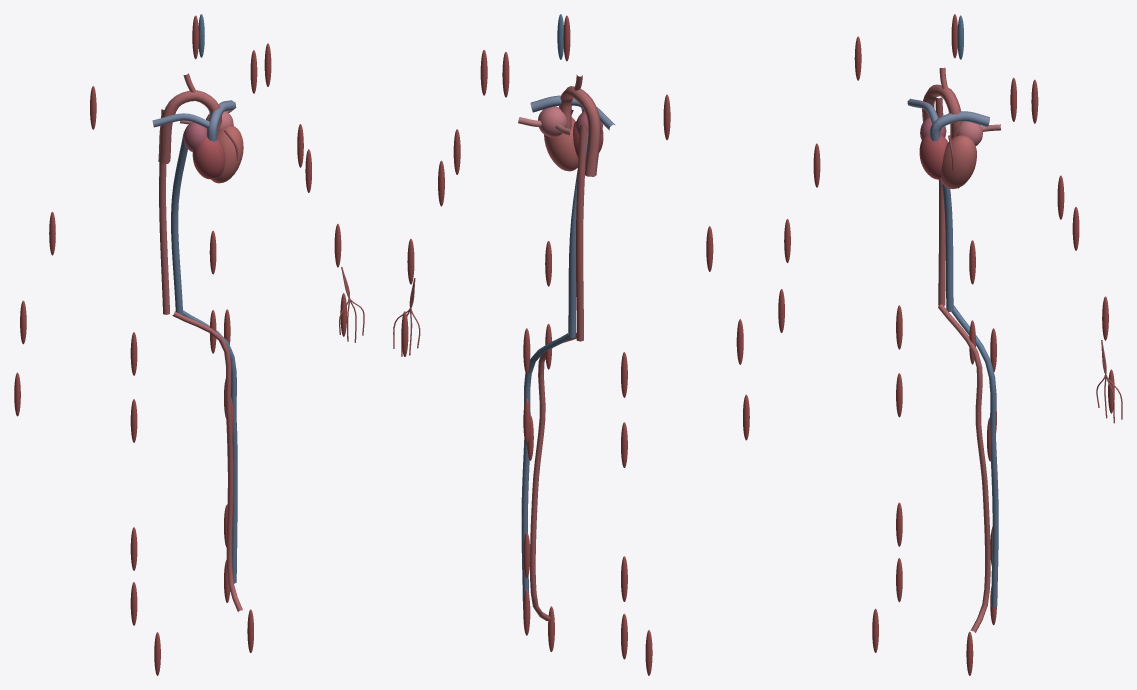
The model's file is cardiovascular-system.glb.
3 views of the same model, side by side, from view 1: azimuth 30°, elevation 25°; view 2: azimuth 150°, elevation 25°; view 3: azimuth 330°, elevation 25° (orthographic). The views are drawn at different scales.
Visible parts, largest first — view 1: leg-vessels-329, right-atrium-320, leg-vessels-330, aorta-285, aorta-319, right-ventricle-282, left-ventricle-281; view 2: leg-vessels-329, aorta-319, aorta-285, leg-vessels-330, right-atrium-320, left-ventricle-281, left-atrium-283; view 3: leg-vessels-329, leg-vessels-330, left-ventricle-281, right-atrium-320, aorta-319, right-ventricle-282, aorta-285, pulmonary-artery-287.
Boxes of the visible parts, x1=… form: leg-vessels-329: x1=172, y1=311, x2=242, y2=611; right-atrium-320: x1=171, y1=131, x2=187, y2=314; leg-vessels-330: x1=182, y1=310, x2=237, y2=583; aorta-285: x1=158, y1=90, x2=221, y2=164; aorta-319: x1=159, y1=109, x2=169, y2=314; right-ventricle-282: x1=192, y1=137, x2=225, y2=179; left-ventricle-281: x1=211, y1=125, x2=243, y2=183; leg-vessels-329: x1=530, y1=333, x2=576, y2=620; aorta-319: x1=576, y1=125, x2=587, y2=341; aorta-285: x1=559, y1=86, x2=600, y2=176; leg-vessels-330: x1=521, y1=333, x2=570, y2=609; right-atrium-320: x1=568, y1=130, x2=588, y2=338; left-ventricle-281: x1=544, y1=117, x2=578, y2=171; left-atrium-283: x1=538, y1=106, x2=567, y2=137; leg-vessels-329: x1=938, y1=304, x2=990, y2=632; leg-vessels-330: x1=951, y1=305, x2=998, y2=607; left-ventricle-281: x1=940, y1=135, x2=976, y2=188; right-atrium-320: x1=942, y1=183, x2=953, y2=311; aorta-319: x1=935, y1=97, x2=945, y2=305; right-ventricle-282: x1=919, y1=134, x2=948, y2=179; aorta-285: x1=922, y1=84, x2=962, y2=139; pulmonary-artery-287: x1=929, y1=111, x2=989, y2=141.
Bounding box in the file's own units: 2.96 × 5.18 × 0.531.
